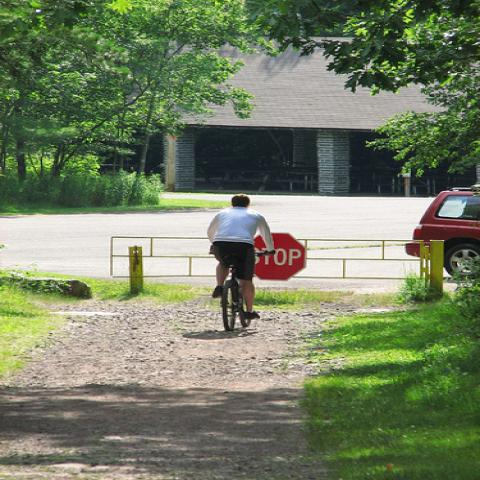car: (404, 188, 478, 280)
